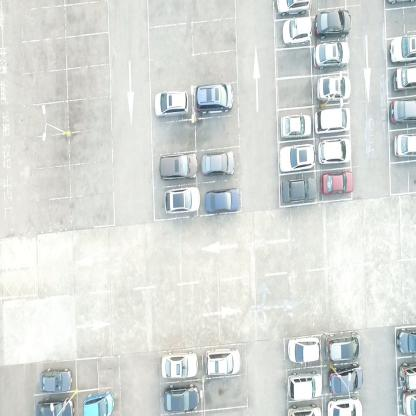car: (196, 82, 234, 114), (279, 142, 315, 175), (314, 8, 351, 40), (159, 150, 198, 180), (313, 39, 350, 70), (160, 350, 198, 380), (205, 344, 240, 376), (280, 176, 317, 206), (316, 73, 351, 104), (328, 364, 364, 394), (287, 370, 323, 400), (281, 14, 312, 48), (326, 333, 361, 363), (317, 136, 352, 166), (164, 384, 200, 413), (200, 149, 236, 178), (154, 89, 188, 119), (164, 185, 200, 213), (204, 187, 241, 214), (314, 106, 350, 133), (287, 334, 320, 363), (320, 170, 354, 196), (280, 113, 312, 140), (39, 366, 72, 392), (83, 390, 115, 415), (389, 34, 416, 62), (35, 396, 74, 415), (326, 396, 364, 415), (275, 0, 313, 19), (389, 97, 416, 123), (394, 130, 416, 160), (393, 65, 415, 91), (398, 360, 416, 390), (396, 327, 416, 354), (287, 402, 322, 415), (402, 389, 416, 415)
